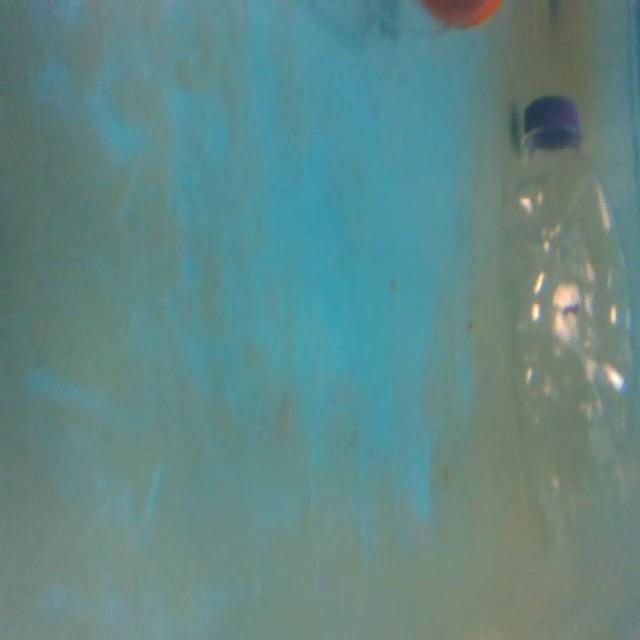plastic bottle: (498, 88, 640, 565)
